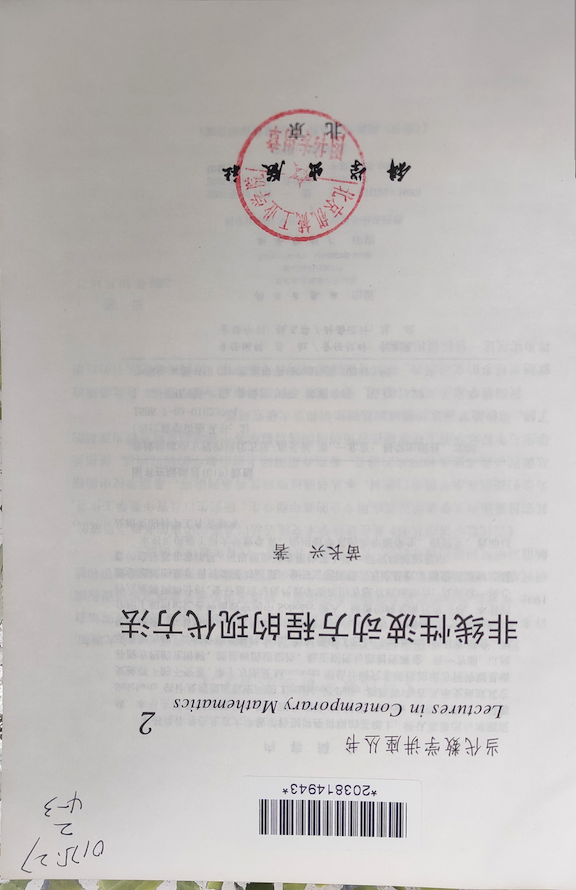Text_area: (138, 515, 558, 839), (230, 83, 432, 258), (9, 760, 117, 877)
